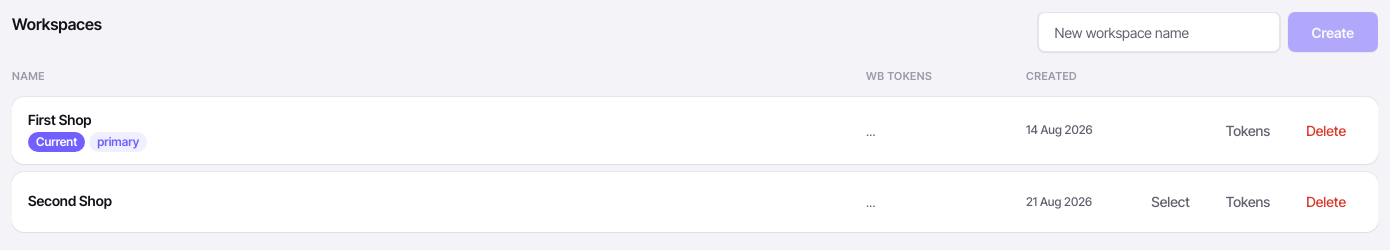
Test: ProfileWorkspaces › does not delete a workspace on the first press
The image size is (1390, 250).
What coordinates should you click on to do the following:
click the button "Delete" in the row of "Second Shop"
I would click on:
 (1326, 202)
Its box is [1290,184,1362,220].
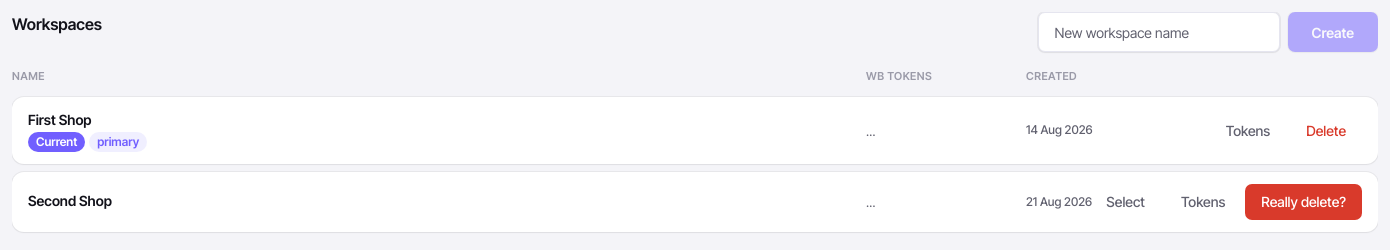
Expected: the button "Really delete?" is shown, [1245,184,1362,220]
